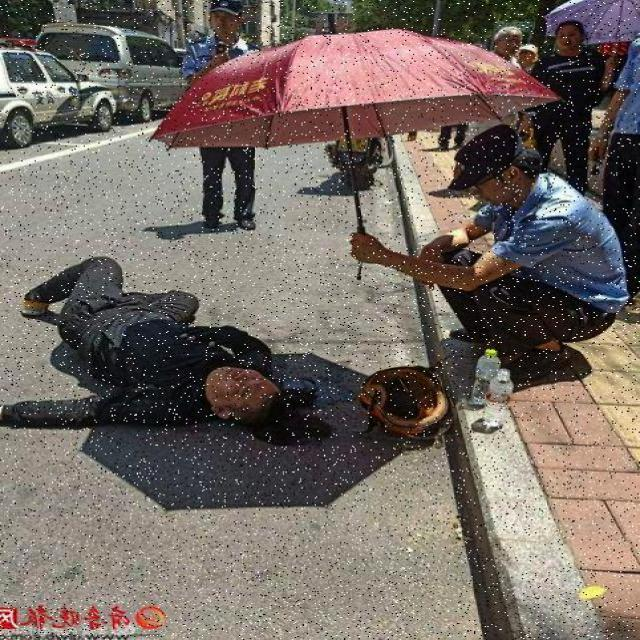fall: (2, 256, 318, 440)
